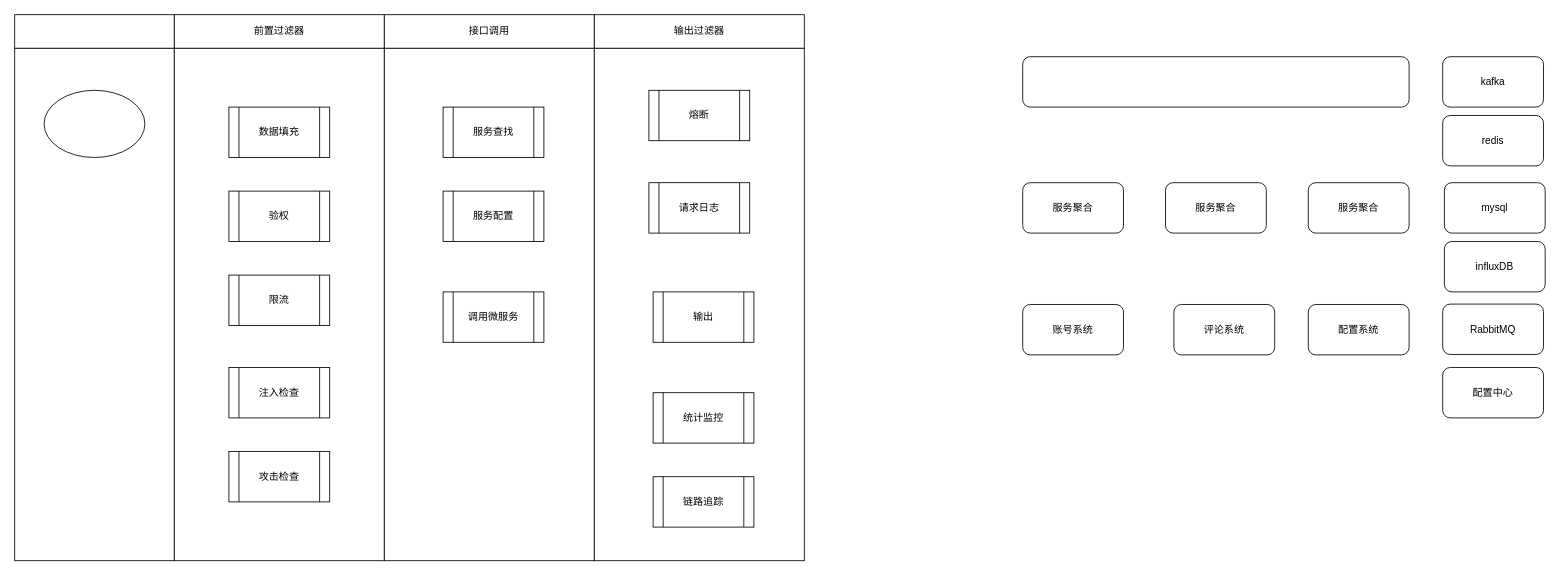
This 1560x575 diagram has some shape labels left out. The centre of each missing label's shape, as x and y in pixels:
服务网关: the point at 1215,81
用户侧: the point at 94,31
调用请求: the point at 94,123
